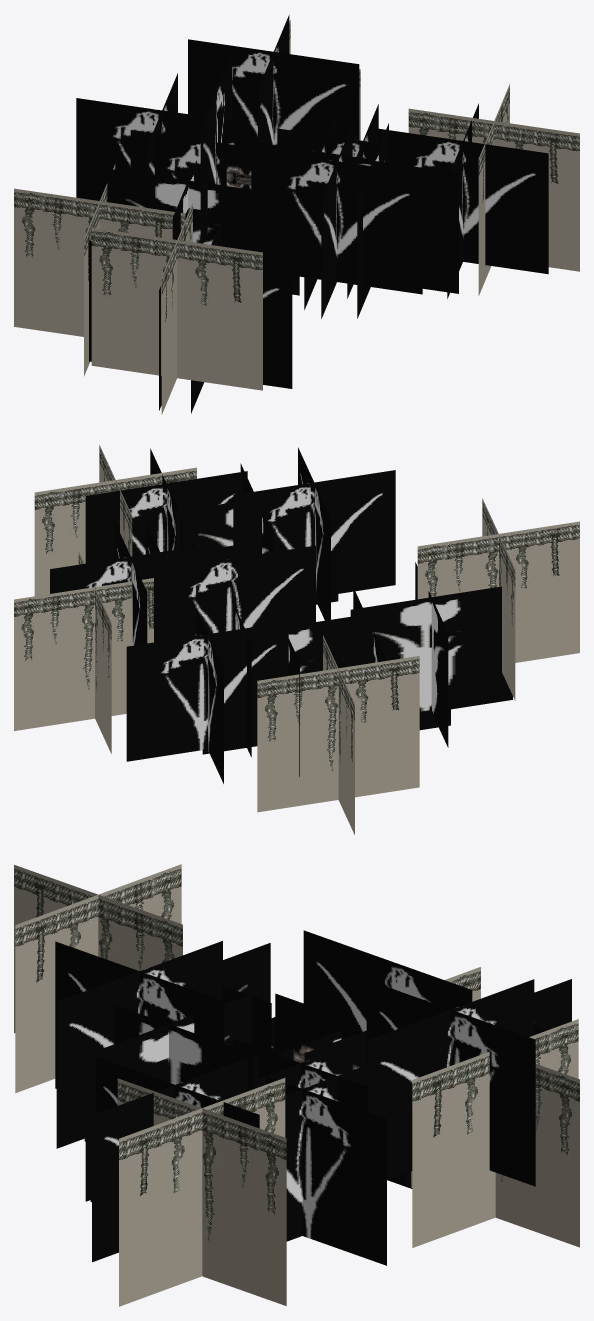
3 views of the same model, one above another, from view 1: azimuth 30°, elevation 25°; view 2: azimuth 150°, elevation 25°; view 3: azimuth 270°, elevation 25° (orthographic). The views are drawn at different scales.
Parts seen in each view (by area): view 1: Object99; view 2: Object99; view 3: Object99.
Part boxes in pixels (x1=…): Object99: x1=14, y1=15, x2=579, y2=414; Object99: x1=14, y1=445, x2=579, y2=834; Object99: x1=14, y1=864, x2=579, y2=1306.
Bounding box in the file's own units: 50.27 × 23.22 × 43.77.
